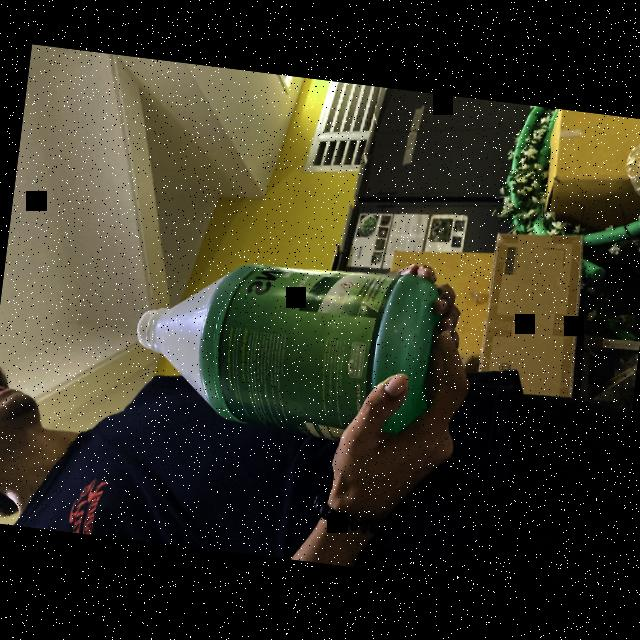chemical_plastic_gallon: (117, 242, 447, 457)
